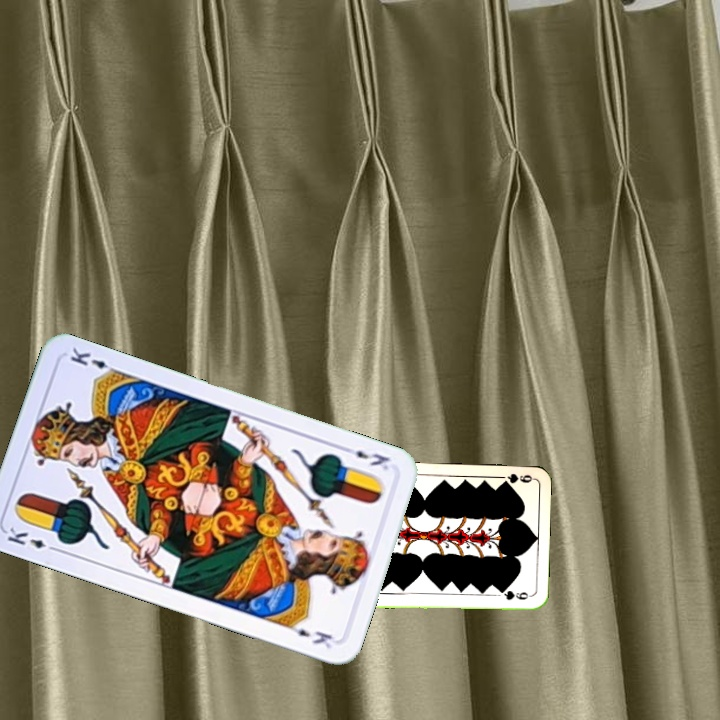EK: (3, 523, 61, 555), (339, 442, 393, 473)
G9: (499, 469, 535, 486)
